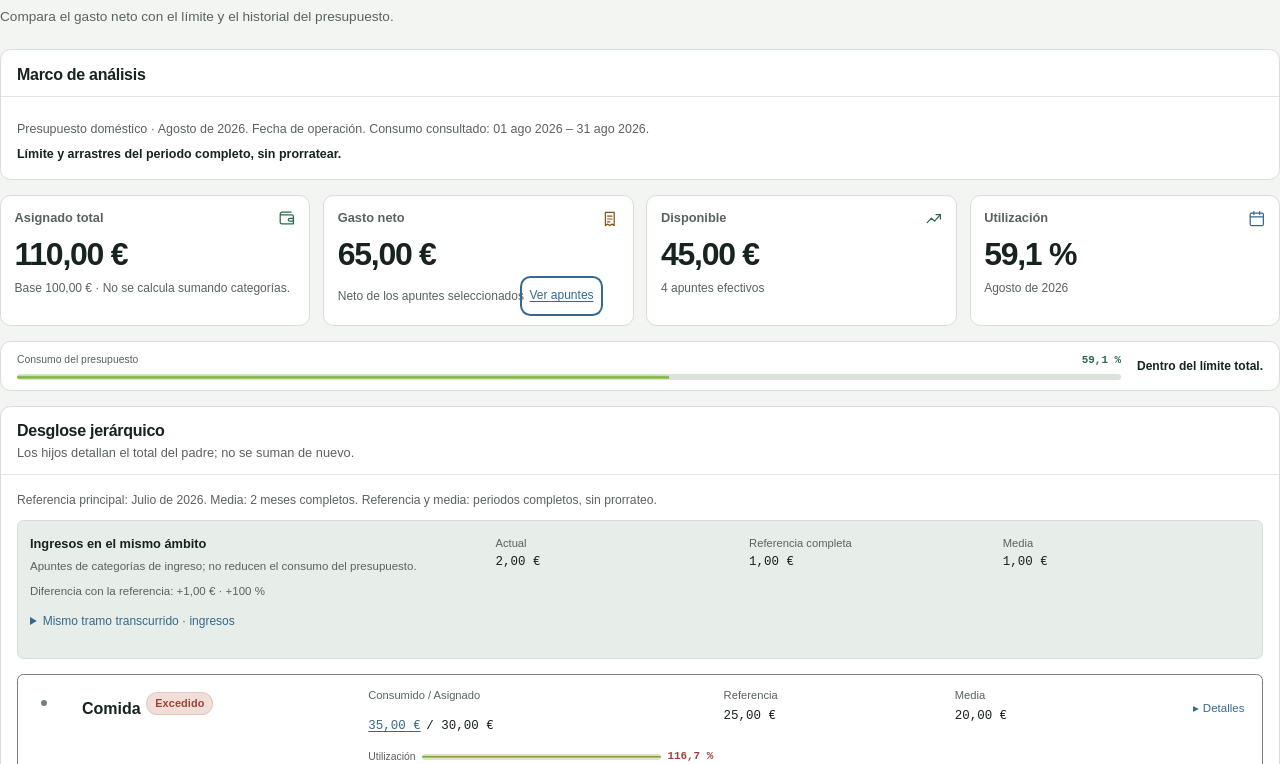
Scenario: BudgetsPageView › opens exact global and category details without changing filters or the accordion
Press Enter
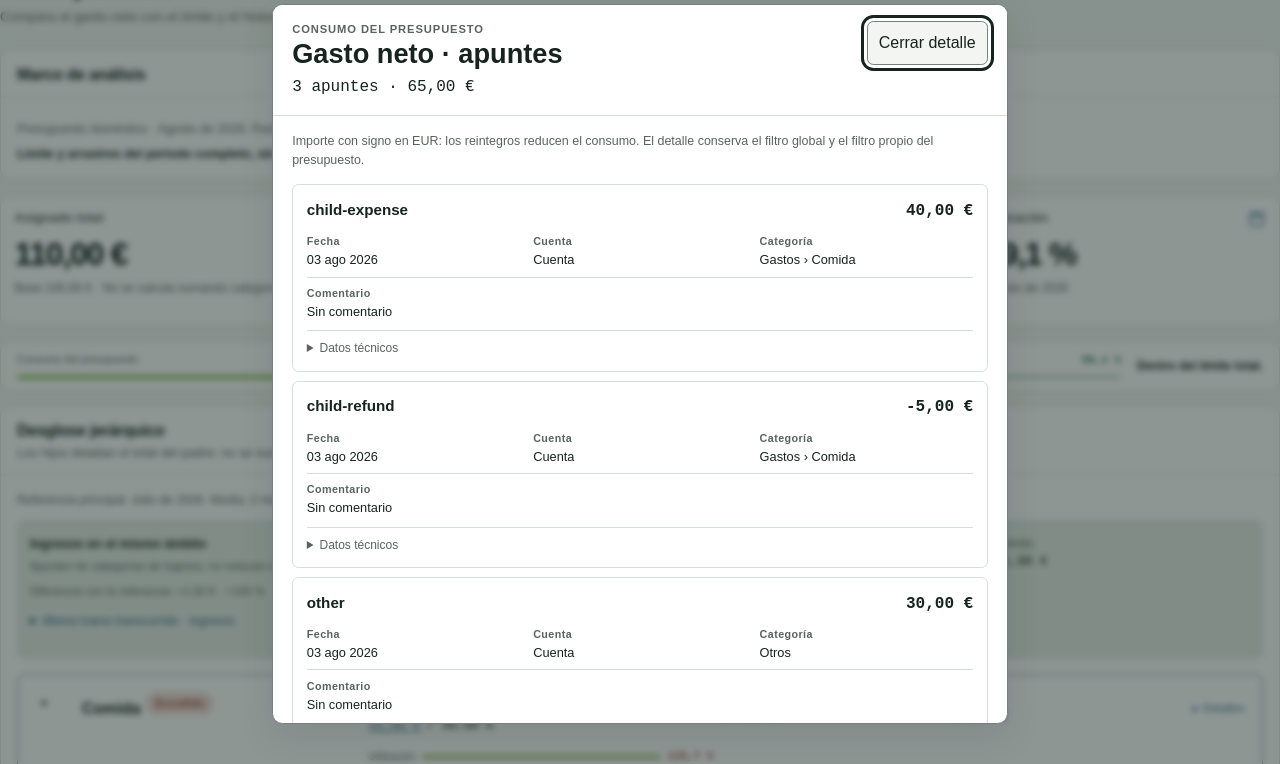
Expected: the dialog "Gasto neto · apuntes" is shown, left=272, top=4, right=1008, bottom=724
Expected: the text "child-expense" is shown, left=307, top=200, right=408, bottom=220
Expected: the text "child-refund" is shown, left=307, top=396, right=395, bottom=416
Click the button "Cerrar detalle": (927, 43) left=866, top=21, right=988, bottom=65
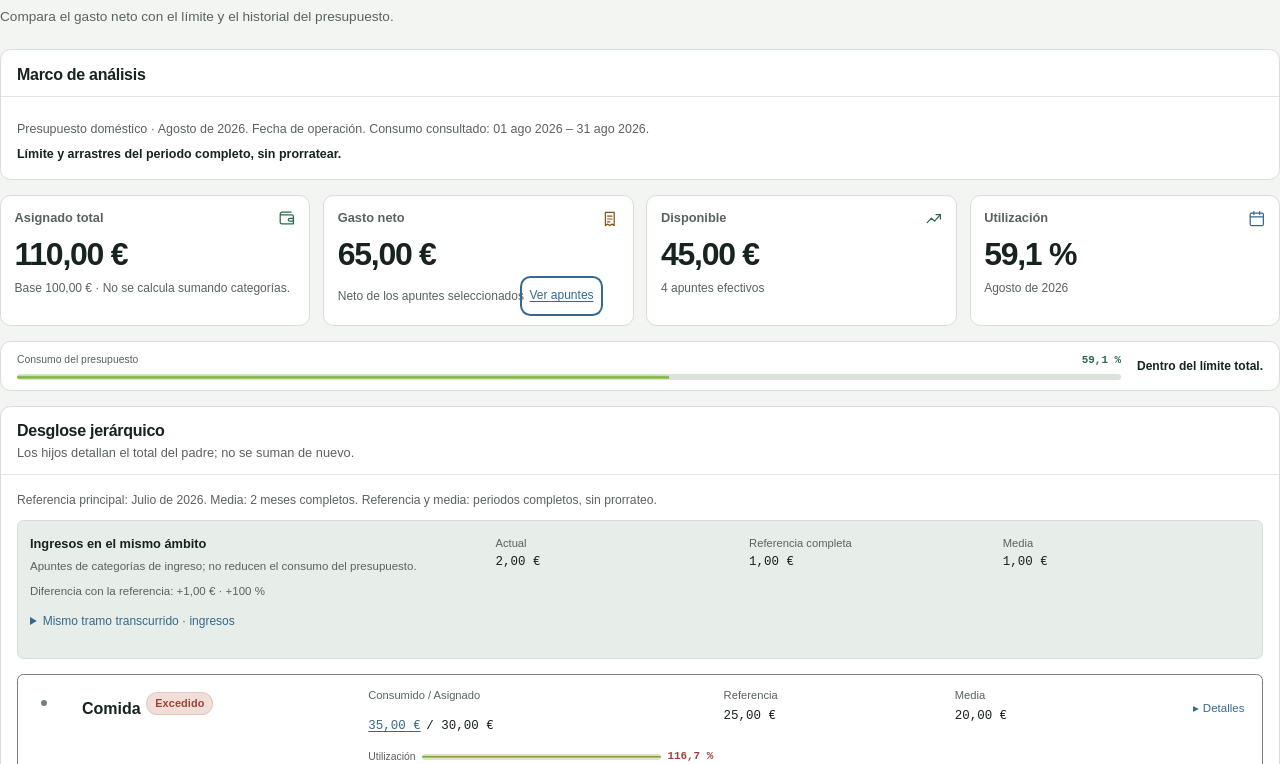
Expected: the dialog is gone
Click the button named "Ver apuntes consumidos de Gastos › Comida: 35,00": (394, 726) left=364, top=704, right=426, bottom=748
(page scrolled)
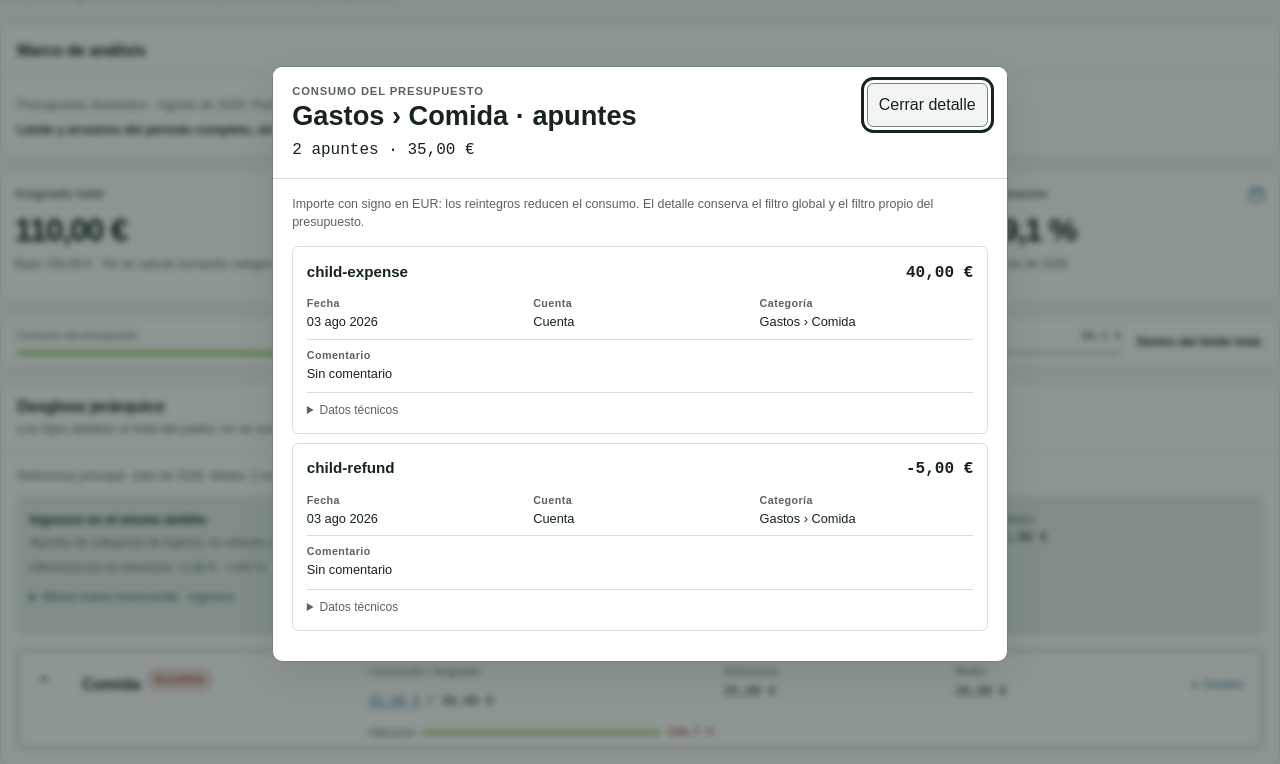
Expected: the dialog "Gastos › Comida · apuntes" is shown, left=272, top=66, right=1008, bottom=662
Expected: the text "child-expense" is shown, left=307, top=262, right=408, bottom=282
Expected: the text "child-refund" is shown, left=307, top=458, right=395, bottom=478
Press Escape
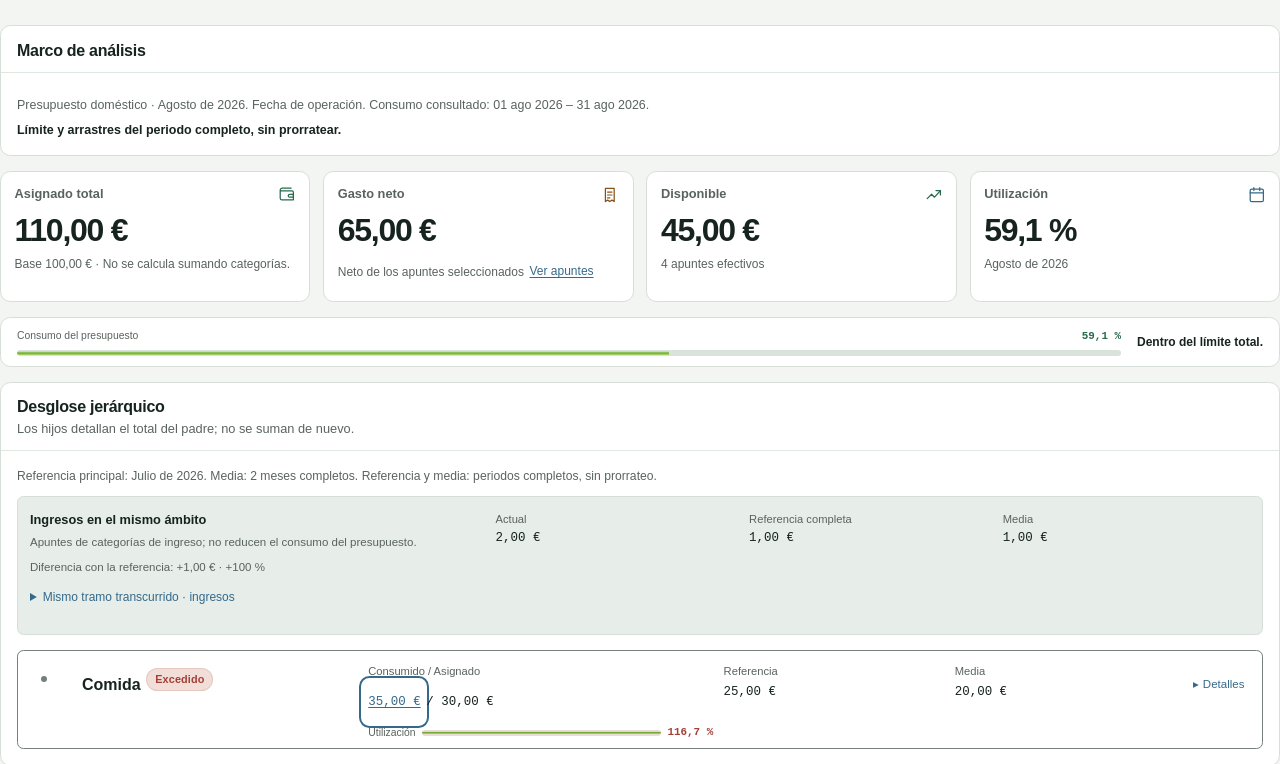
Expected: the dialog is gone
